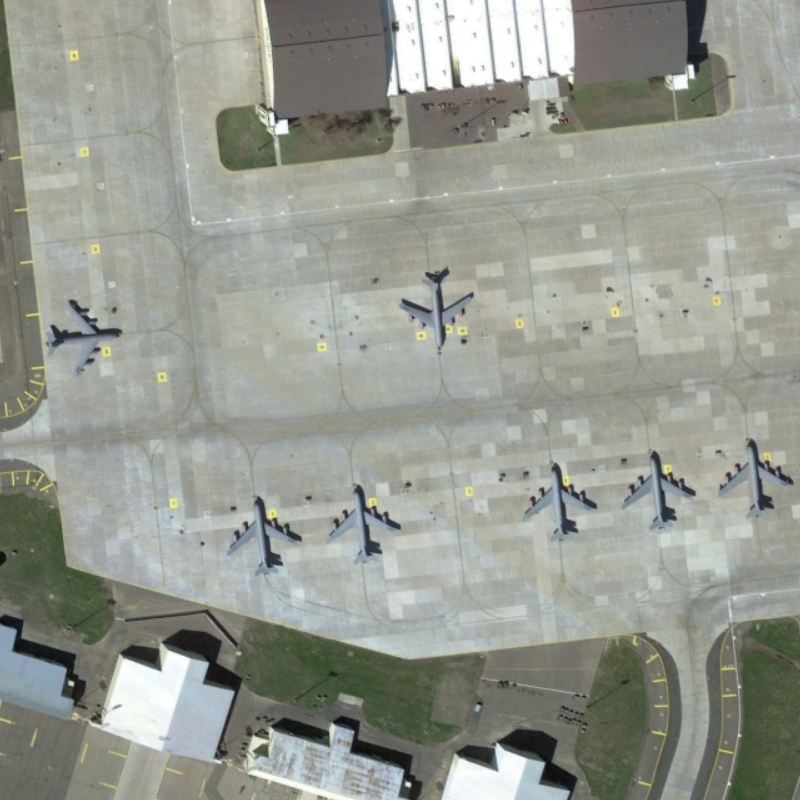A14: (221, 486, 305, 581), (392, 261, 481, 349), (621, 446, 705, 534), (325, 484, 414, 567), (520, 457, 605, 543), (42, 294, 129, 377), (715, 431, 796, 519)
